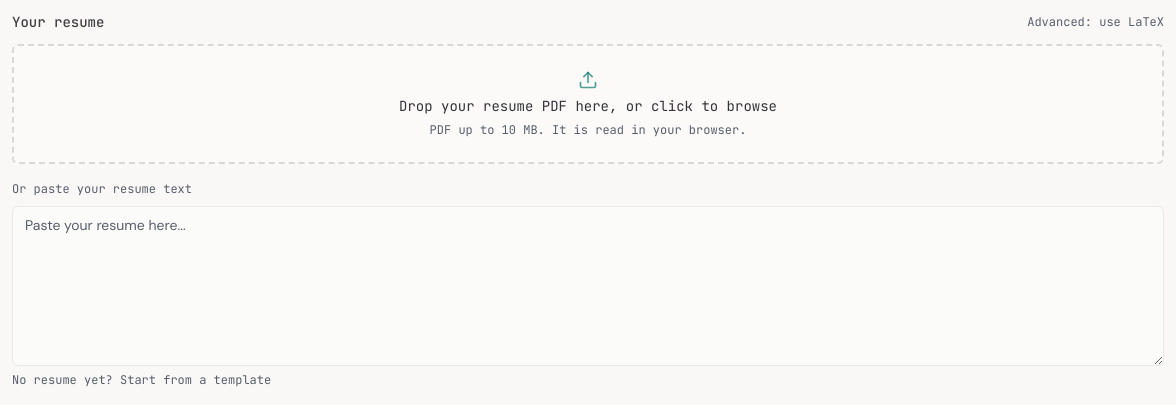
it: ResumeSourceInput template › offers a template when empty and fills the box with an editable starting point
Click the button "No resume yet? Start from a template": (142, 380) [12,372,271,388]
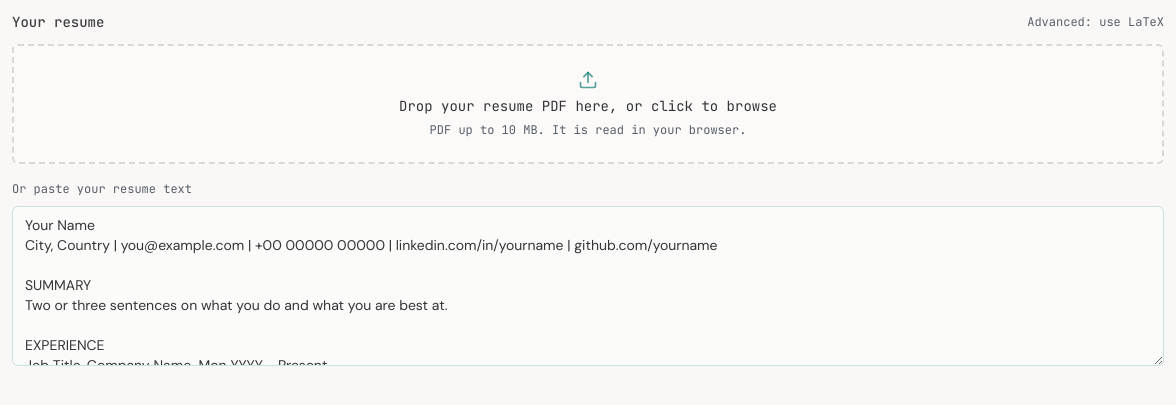
Expected: the button "Start from a template" is gone
